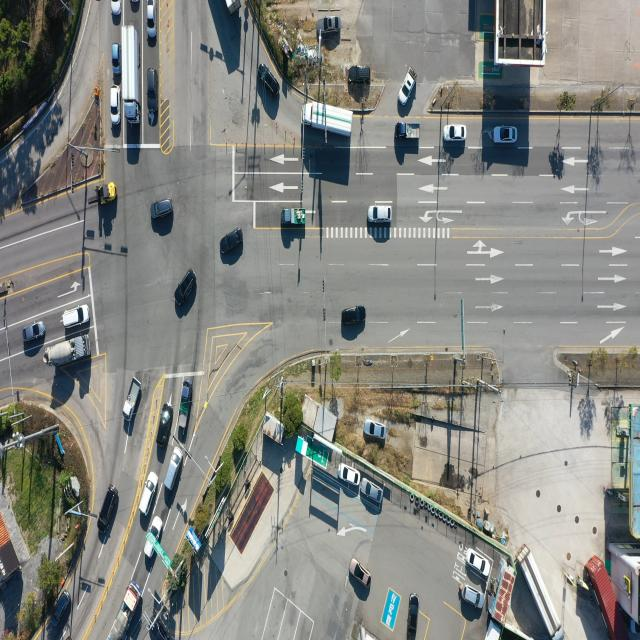car: (164, 445, 183, 493), (139, 472, 159, 517), (143, 516, 163, 560), (97, 487, 116, 532), (175, 272, 197, 306), (257, 62, 280, 94), (156, 406, 171, 455), (62, 305, 90, 330), (468, 549, 492, 578), (53, 590, 72, 626), (221, 230, 245, 257), (351, 560, 372, 589), (460, 585, 484, 610), (362, 480, 384, 505), (398, 74, 414, 106), (493, 126, 517, 146), (342, 306, 366, 326), (24, 321, 46, 342), (409, 593, 420, 635), (340, 464, 361, 485), (153, 200, 175, 220), (348, 65, 371, 84), (444, 125, 468, 143), (363, 420, 385, 439), (369, 205, 393, 222), (110, 87, 119, 125), (146, 0, 155, 38), (148, 68, 157, 106), (110, 44, 120, 78), (322, 14, 340, 30), (110, 0, 120, 18)
medium_truck: (522, 545, 565, 637), (305, 104, 356, 139), (44, 334, 90, 369), (125, 24, 141, 124), (115, 583, 143, 640), (224, 0, 242, 15)
small_truck: (124, 377, 142, 419), (178, 380, 192, 430), (281, 208, 305, 227), (395, 122, 420, 140)
